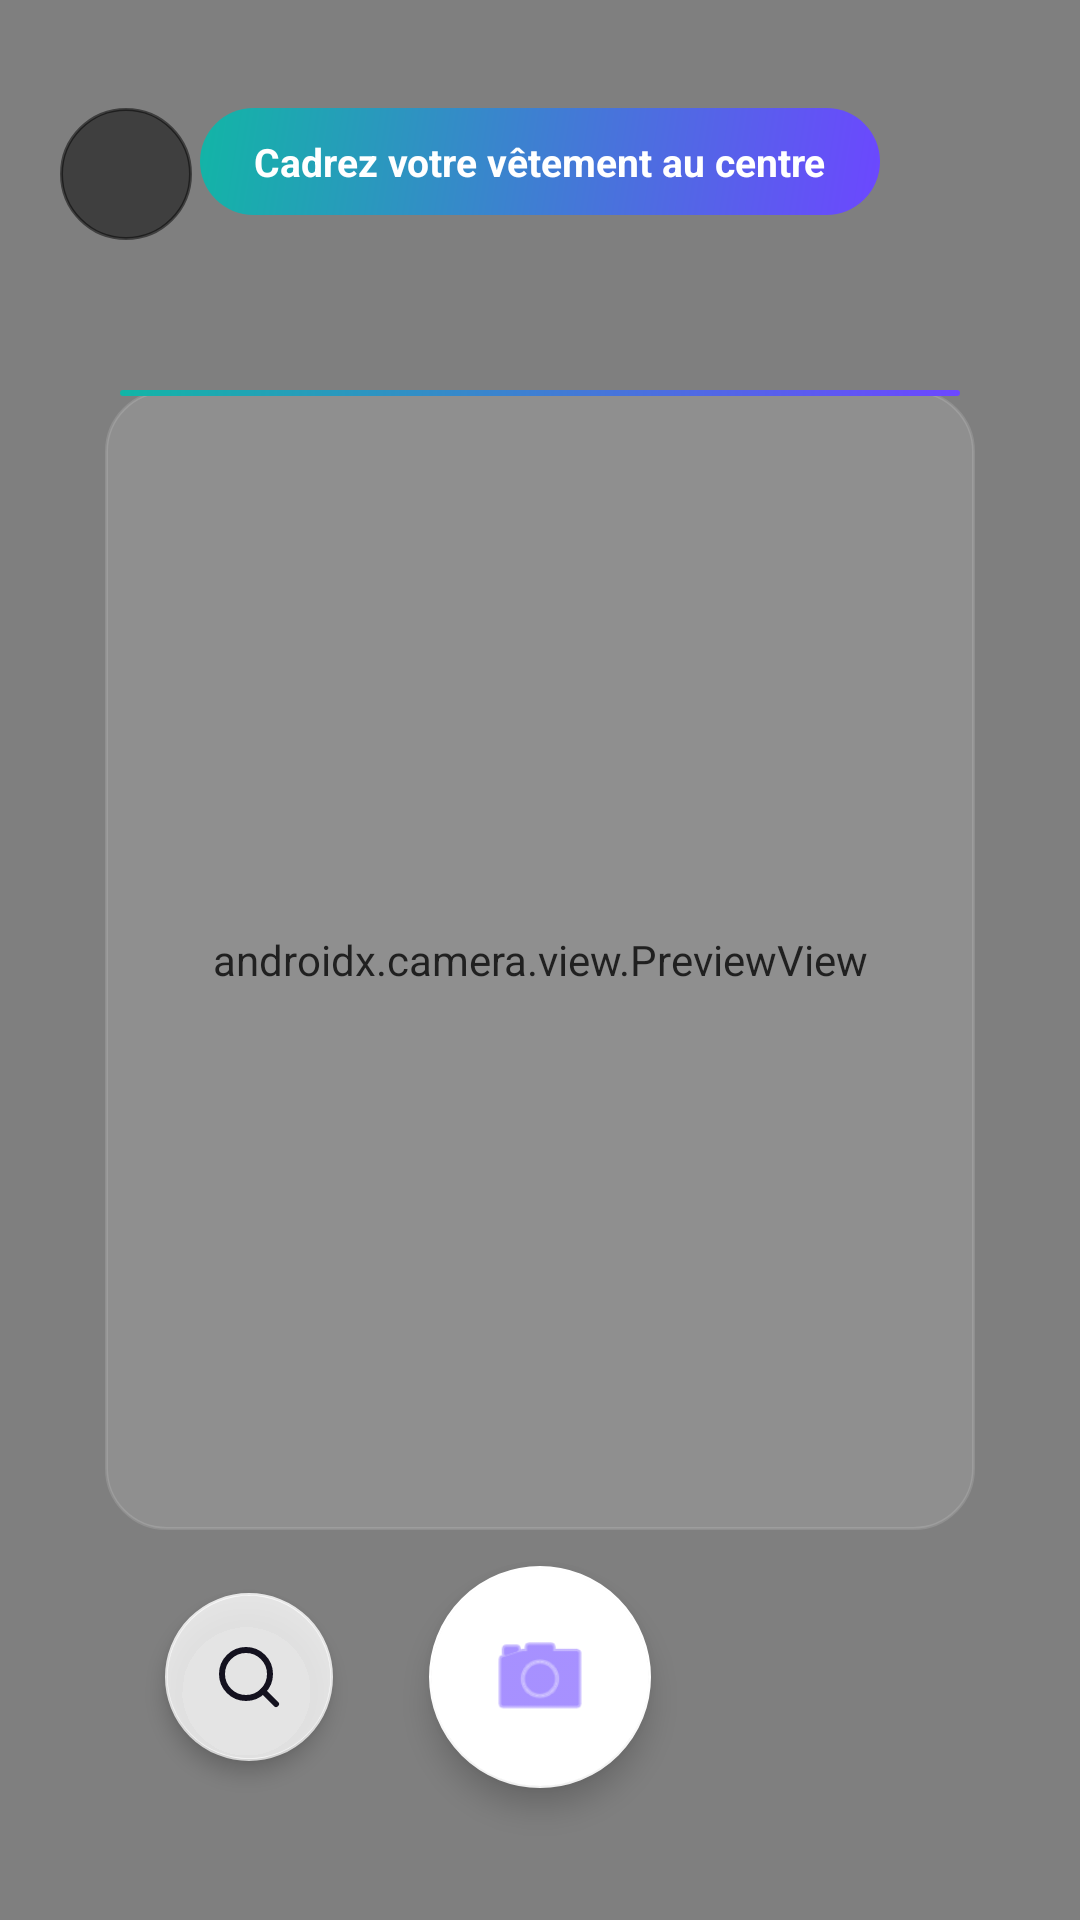

Icons on this 1080px×1920px Android screen, each with its box as (x1, y1, x2, y2):
Capturer le vêtement: (429, 1566, 651, 1788)
